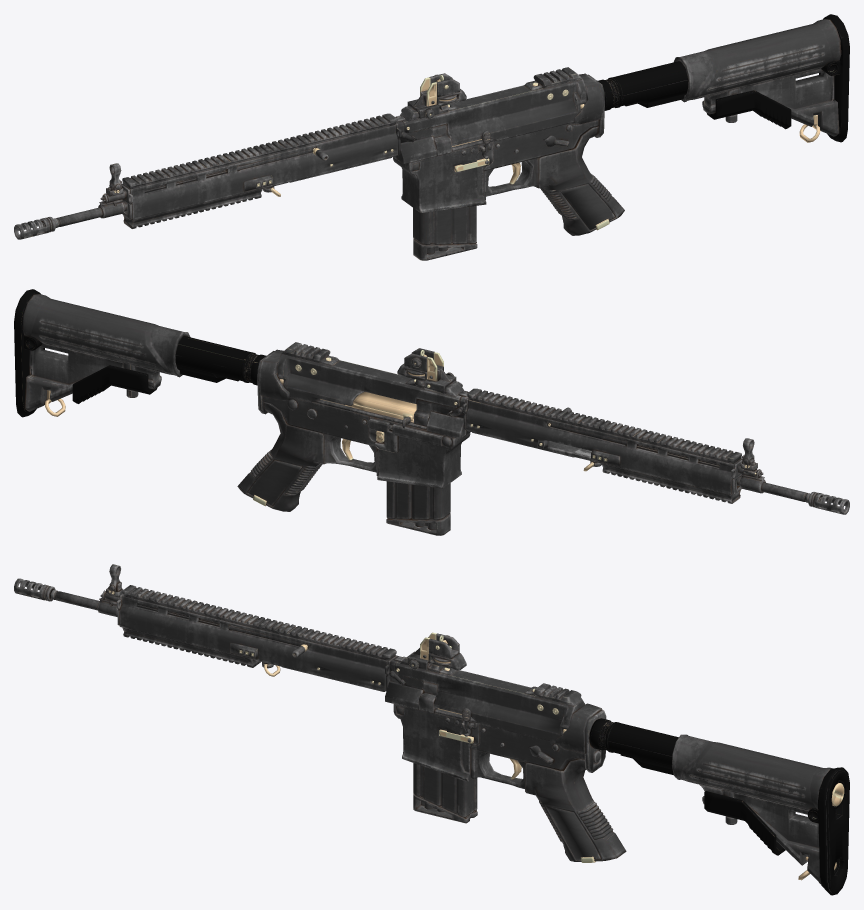
3 views of the same model, one above another, from view 1: azimuth 30°, elevation 25°; view 2: azimuth 150°, elevation 25°; view 3: azimuth 330°, elevation 25° (orthographic).
Visible parts, largest first — view 1: Receiver, Magazine; view 2: Receiver, Magazine; view 3: Receiver, Magazine.
Boxes of the visible parts, x1=… form: Receiver: x1=14, y1=14, x2=849, y2=239; Magazine: x1=413, y1=206, x2=477, y2=260; Receiver: x1=14, y1=289, x2=849, y2=514; Magazine: x1=386, y1=481, x2=450, y2=535; Receiver: x1=14, y1=564, x2=849, y2=895; Magazine: x1=413, y1=763, x2=477, y2=823.
Bounding box in the file's own units: 2.05 × 0.4553 × 0.1375.
Materials: 1 (1 with a texture image).
